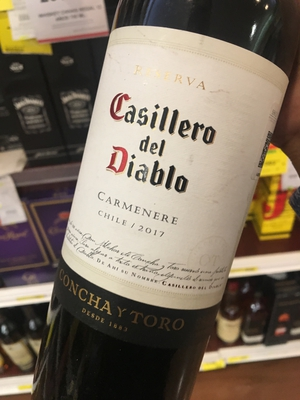casillero del diablo carmenere: (55, 19, 290, 400)
